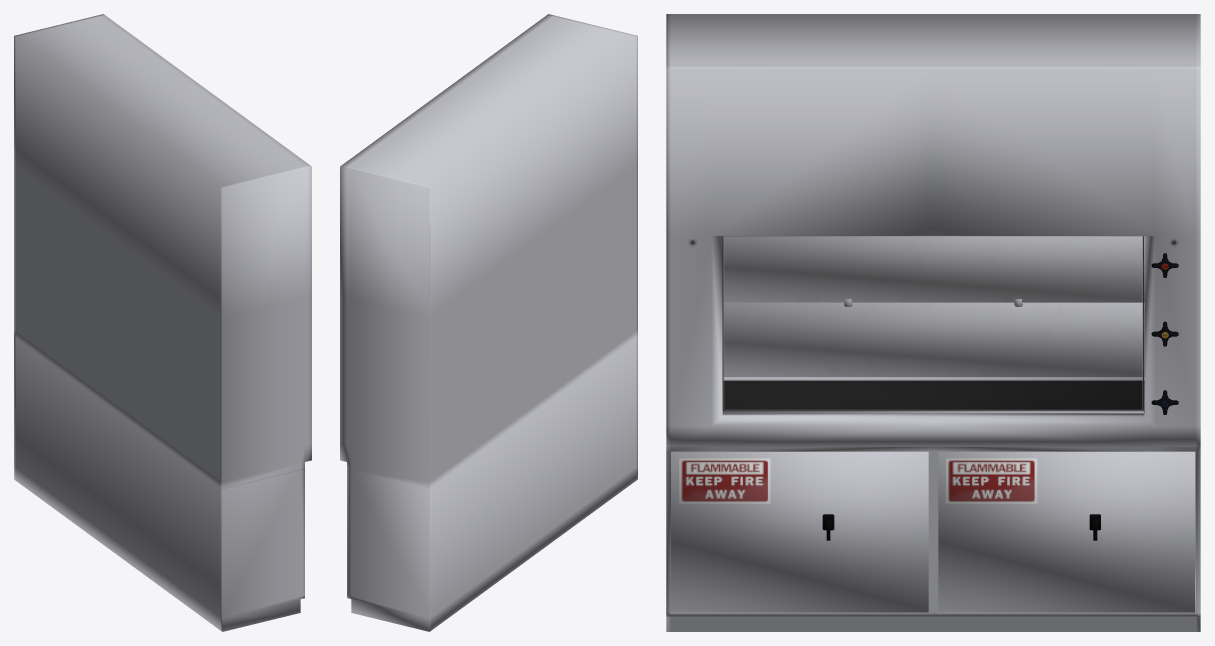
File: ChemicalFumeHood.glb
3 renders of one model, left to right at view 1: azimuth 30°, elevation 25°; view 2: azimuth 150°, elevation 25°; view 3: azimuth 270°, elevation 25°, orthographic. The views are drawn at different scales.
Parts seen in each view (by area): view 1: FumehoodBase_LP; view 2: FumehoodBase_LP; view 3: FumehoodBase_LP, FumehoodInner_LP, Cabinet_LP, Cabinet_LP.001, GlassDivider_LP, Turnables_LP.
Part boxes in pixels (x1=…): FumehoodBase_LP: x1=14, y1=14, x2=311, y2=631; FumehoodBase_LP: x1=340, y1=14, x2=637, y2=631; FumehoodBase_LP: x1=666, y1=14, x2=1200, y2=631; FumehoodInner_LP: x1=723, y1=236, x2=1144, y2=377; Cabinet_LP: x1=671, y1=451, x2=928, y2=612; Cabinet_LP.001: x1=938, y1=451, x2=1195, y2=612; GlassDivider_LP: x1=722, y1=236, x2=1143, y2=413; Turnables_LP: x1=1151, y1=253, x2=1178, y2=414.
Bounding box in the file's own units: 0.3333 × 1.45 × 1.24.
5 materials, 5 textured.
